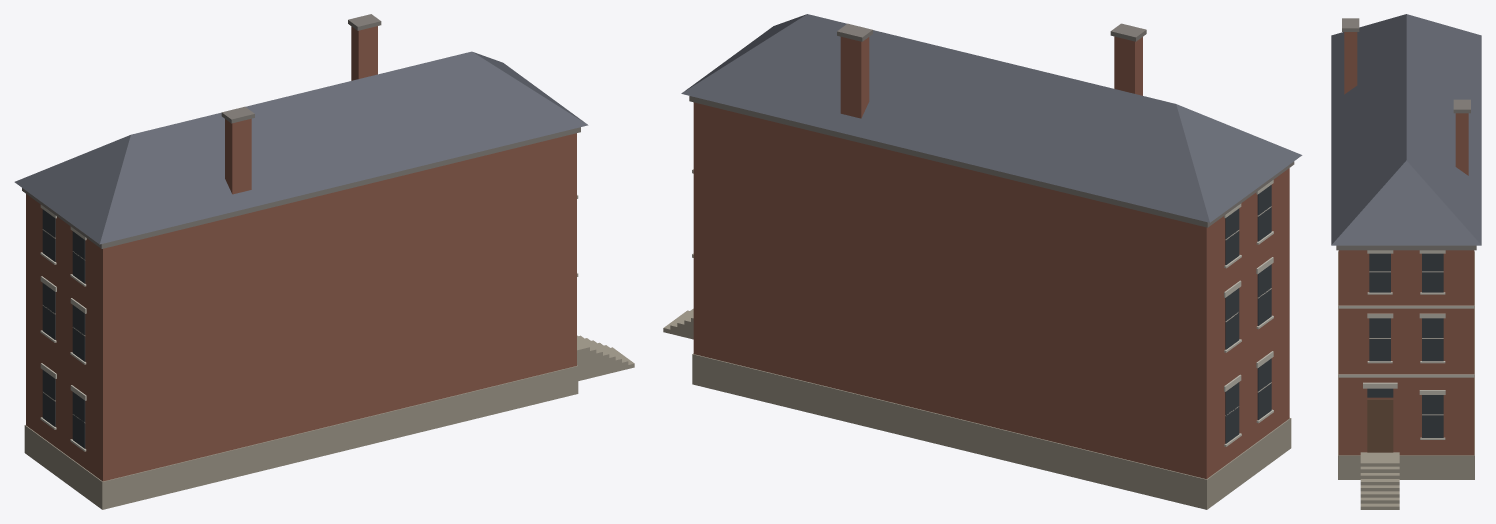
The model's file is house_2017_indiana__draft_1904.glb.
The picture shows the model from 3 angles, left to right: view 1: azimuth 30°, elevation 25°; view 2: azimuth 150°, elevation 25°; view 3: azimuth 270°, elevation 25°; orthographic projection. The views are drawn at different scales.
Parts seen in each view (by area): view 1: house_2017_indiana__draft_1904; view 2: house_2017_indiana__draft_1904; view 3: house_2017_indiana__draft_1904.
Part boxes in pixels (bbox=[...]): house_2017_indiana__draft_1904: bbox=[14, 14, 634, 509]; house_2017_indiana__draft_1904: bbox=[663, 14, 1302, 509]; house_2017_indiana__draft_1904: bbox=[1331, 14, 1481, 509].
Size of the model in its own units: 25.9 by 15.99 by 6.95.
